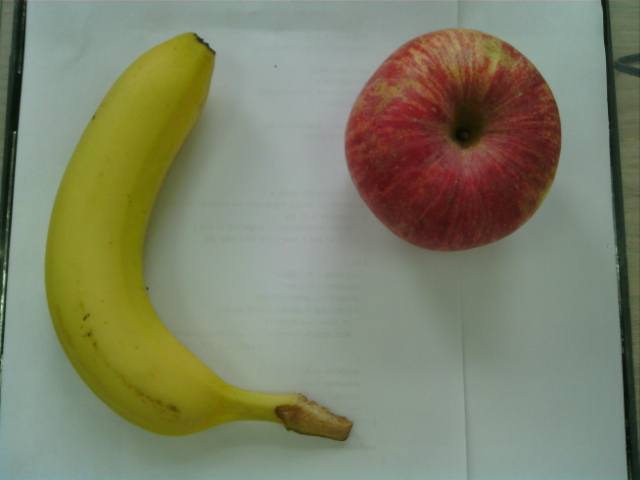normal_apple: (343, 27, 565, 251)
normal_banana: (42, 31, 355, 444)
